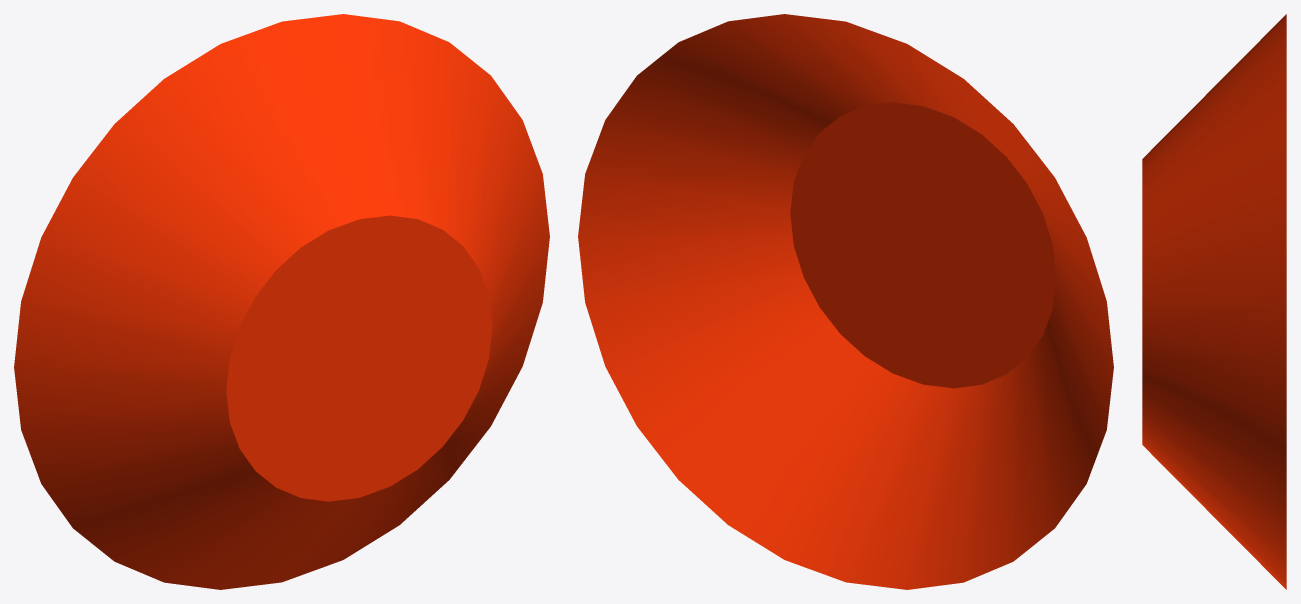
The model's file is Shield_Symbol_01.fbx.
3 views of the same model, side by side, from view 1: azimuth 30°, elevation 25°; view 2: azimuth 150°, elevation 25°; view 3: azimuth 270°, elevation 25° (orthographic). The views are drawn at different scales.
Parts seen in each view (by area): view 1: Shield_Symbol_01; view 2: Shield_Symbol_01; view 3: Shield_Symbol_01.
Boxes of the visible parts, x1,y1,x2,y2 form: Shield_Symbol_01: [14, 14, 549, 589]; Shield_Symbol_01: [578, 14, 1113, 589]; Shield_Symbol_01: [1142, 14, 1286, 589].
Size of the model in its own units: 0.4 by 0.4 by 0.1.
